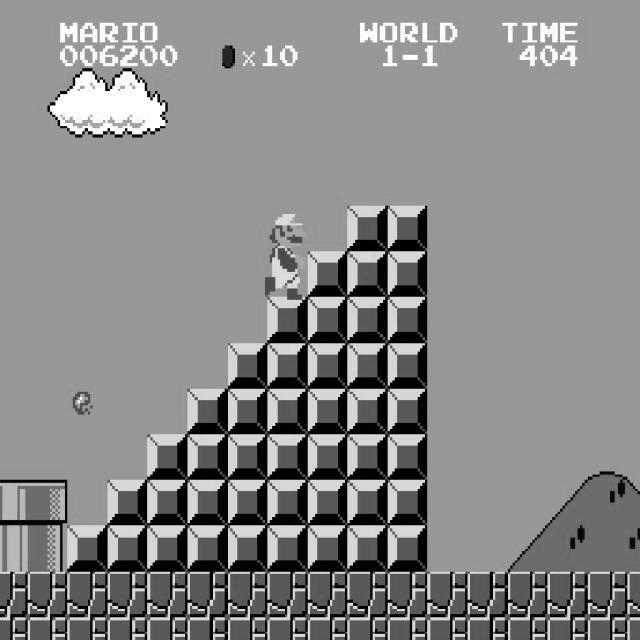14- pipe: (27, 526, 68, 572), (0, 526, 28, 572)
15- pipe_head: (27, 480, 68, 526), (0, 480, 28, 526)
17- undestructible_block: (27, 572, 68, 618), (67, 572, 108, 618), (107, 572, 148, 618), (147, 572, 188, 618), (187, 572, 228, 618), (227, 572, 268, 618), (267, 572, 308, 618), (307, 572, 348, 618), (347, 572, 388, 618), (387, 572, 428, 618), (427, 572, 468, 618), (467, 572, 508, 618), (507, 572, 548, 618), (547, 572, 588, 618), (587, 572, 628, 618), (0, 572, 28, 618), (27, 617, 68, 640), (67, 617, 108, 640), (107, 617, 148, 640), (147, 617, 188, 640), (187, 617, 228, 640), (227, 617, 268, 640), (267, 617, 308, 640), (307, 617, 348, 640), (347, 617, 388, 640), (387, 617, 428, 640), (427, 617, 468, 640), (467, 617, 508, 640), (507, 617, 548, 640), (547, 617, 588, 640), (587, 617, 628, 640), (0, 617, 28, 640), (627, 572, 640, 618), (627, 617, 640, 640)
4- fire_mario: (262, 206, 305, 300)
5- fireball: (72, 388, 92, 414)
9- hard_block: (67, 526, 108, 572), (107, 480, 148, 526), (107, 526, 148, 572), (147, 434, 188, 480), (147, 480, 188, 526), (147, 526, 188, 572), (187, 388, 228, 434), (187, 434, 228, 480), (187, 480, 228, 526), (187, 526, 228, 572), (227, 388, 268, 434), (227, 434, 268, 480), (227, 480, 268, 526), (227, 526, 268, 572), (267, 297, 308, 343), (267, 388, 308, 434), (267, 434, 308, 480), (267, 480, 308, 526), (267, 526, 308, 572), (307, 252, 348, 298), (307, 297, 348, 343), (307, 388, 348, 434), (307, 434, 348, 480), (307, 480, 348, 526), (307, 526, 348, 572), (347, 252, 388, 298), (347, 297, 388, 343), (347, 388, 388, 434), (347, 434, 388, 480), (347, 480, 388, 526), (347, 526, 388, 572), (387, 252, 428, 298), (387, 297, 428, 343), (387, 388, 428, 434), (387, 434, 428, 480), (387, 480, 428, 526), (387, 526, 428, 572), (227, 343, 268, 388), (267, 343, 308, 388), (307, 343, 348, 388), (347, 206, 388, 251), (347, 343, 388, 388), (387, 206, 428, 251), (387, 343, 428, 388)
